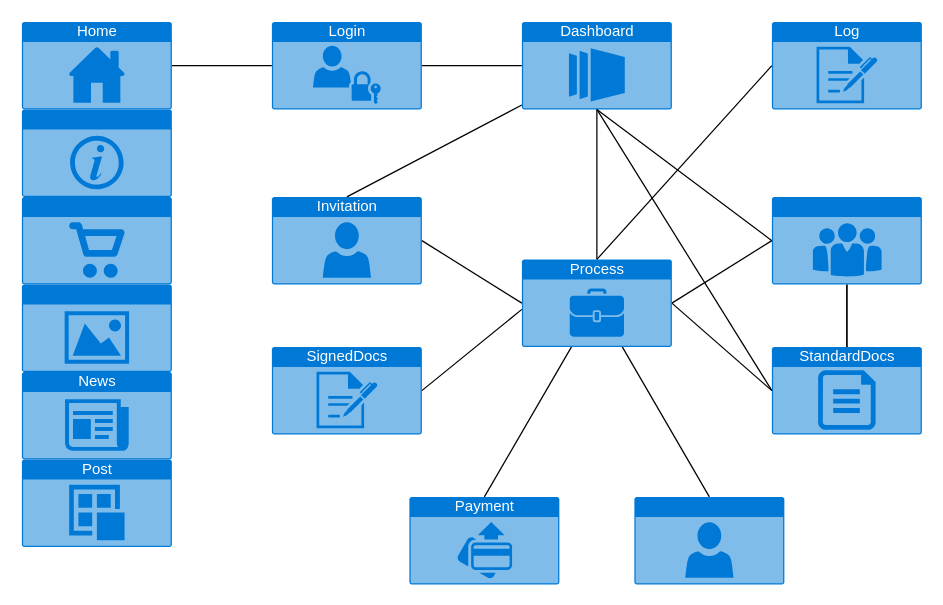
Some shapes in this 943 by 605 pixel diagram are drawn without their labels. The shapes that lost their labels are listed below. From the top down, each one's centre as x and y in pixels, then its label:
the point at 96,152: Info
the point at 96,240: Shopping
the point at 846,240: Account
the point at 96,327: Photo
the point at 709,540: Agreement
